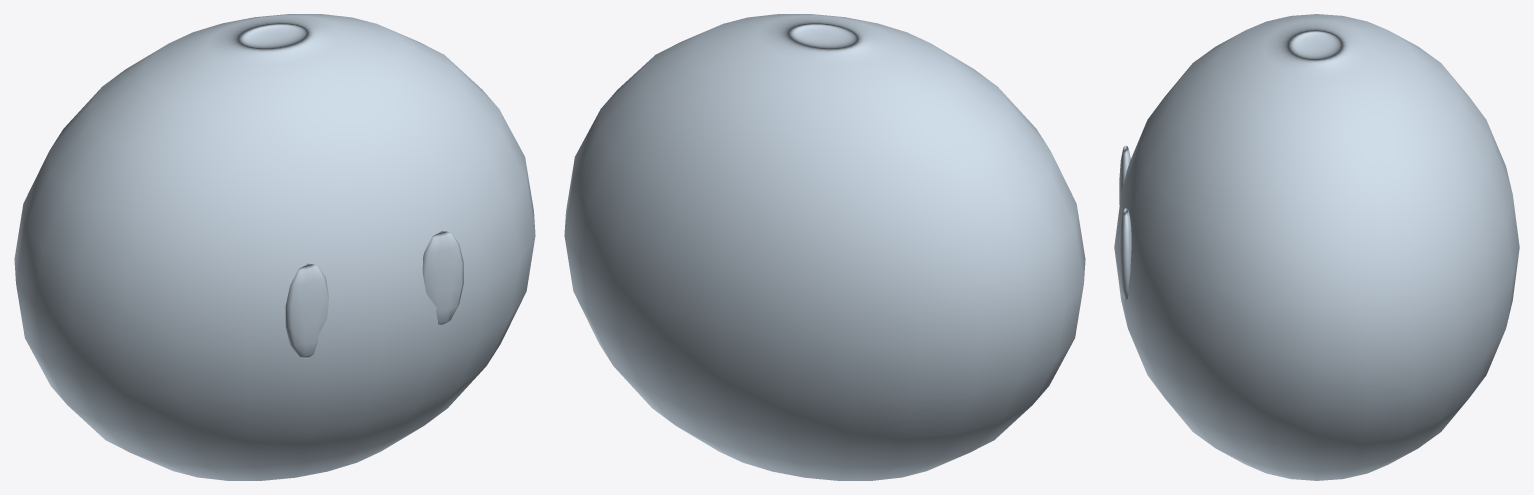
File: 2006_PyroSlimeThrow_Extinguished_Projectile.fbx
3 views of the same model, side by side, from view 1: azimuth 30°, elevation 25°; view 2: azimuth 150°, elevation 25°; view 3: azimuth 270°, elevation 25° (orthographic). The views are drawn at different scales.
Visible parts, largest first — view 1: PART_ThrownPyroSlimeBody, PART_SlimeEye-0.095, PART_SlimeEye0.095; view 2: PART_ThrownPyroSlimeBody; view 3: PART_ThrownPyroSlimeBody, PART_SlimeEye0.095.
Part boxes in pixels (bbox=[...]): PART_ThrownPyroSlimeBody: bbox=[14, 14, 535, 480]; PART_SlimeEye-0.095: bbox=[285, 263, 328, 358]; PART_SlimeEye0.095: bbox=[422, 230, 463, 325]; PART_ThrownPyroSlimeBody: bbox=[564, 14, 1085, 480]; PART_ThrownPyroSlimeBody: bbox=[1114, 14, 1519, 480]; PART_SlimeEye0.095: bbox=[1119, 208, 1131, 299].
Bounding box in the file's own units: 68 × 58 × 52.
